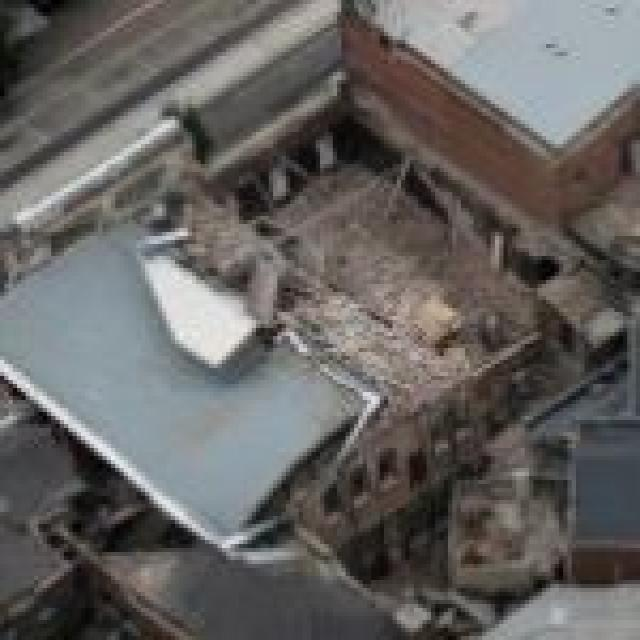collapsed_building: (0, 112, 627, 536)
